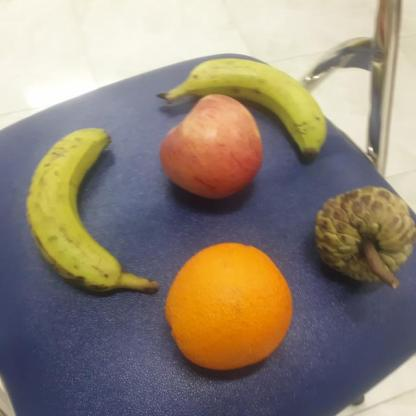annona: (313, 181, 416, 290)
apple: (160, 92, 267, 202)
banana: (22, 124, 117, 294)
orange: (163, 240, 293, 372)
